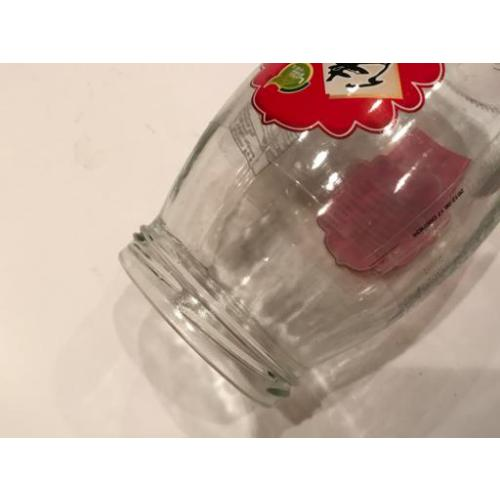glass: (118, 62, 499, 410)
